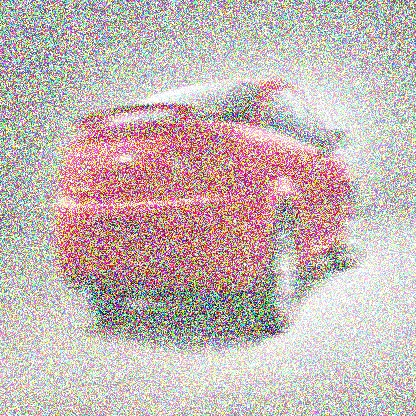Vehicle: (54, 76, 365, 339)
